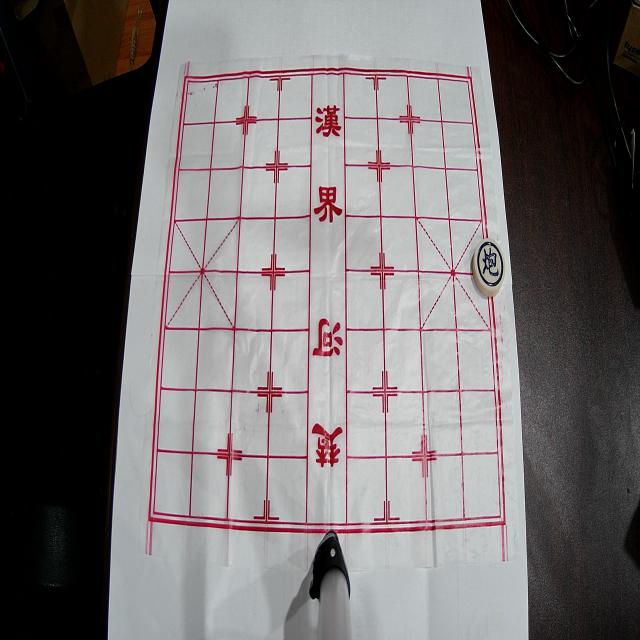black-cannon: (472, 238, 506, 296)
